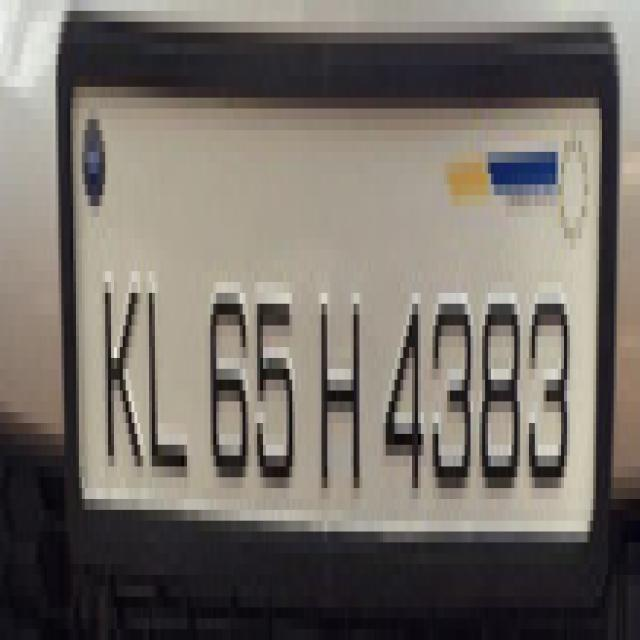3: (428, 262, 477, 516), (526, 278, 573, 508)
4: (382, 270, 429, 530)
5: (251, 257, 301, 508)
6: (205, 252, 250, 490)
8: (478, 272, 526, 512)
H: (314, 258, 368, 518)
K: (96, 258, 148, 510)
L: (144, 237, 193, 500)
